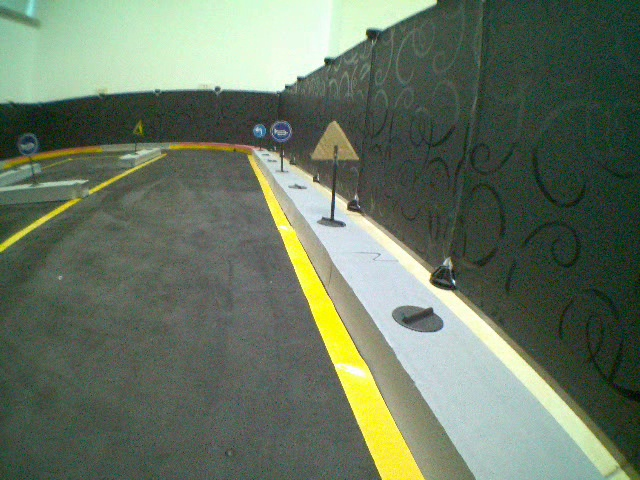fast: (130, 118, 147, 136)
horn: (16, 132, 38, 158), (270, 119, 293, 142)
turn: (252, 122, 267, 138)
